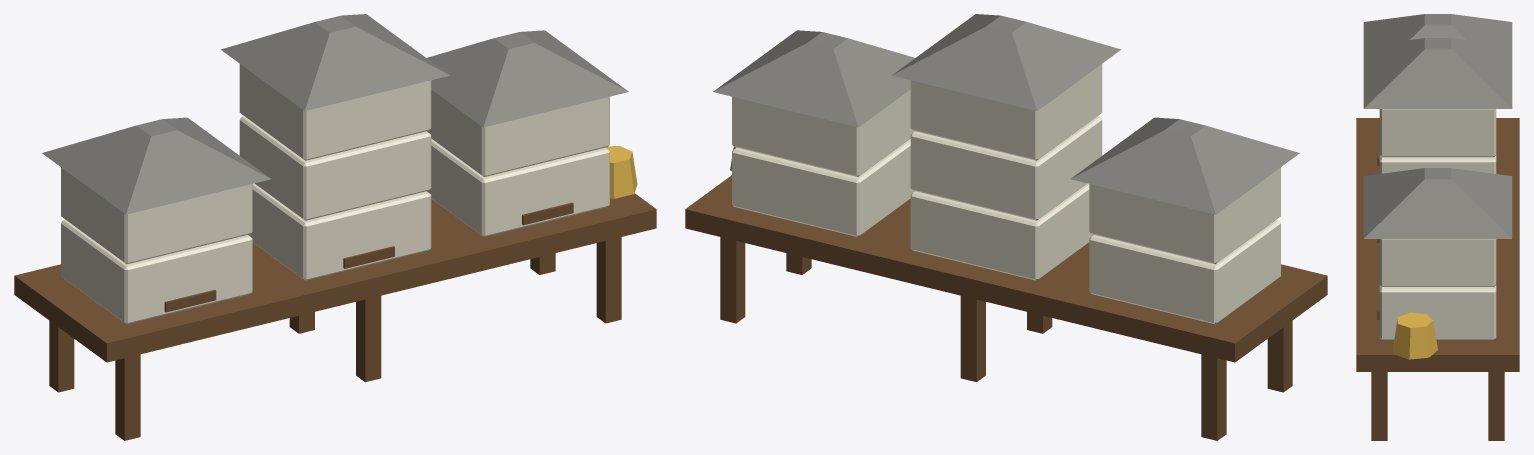
Rendered from beehives.glb.
3 renders of one model, left to right at view 1: azimuth 30°, elevation 25°; view 2: azimuth 150°, elevation 25°; view 3: azimuth 270°, elevation 25°, orthographic. The views are drawn at different scales.
Visible parts, largest first — view 1: beehives; view 2: beehives; view 3: beehives.
Part boxes in pixels (<box>): beehives: <box>14,14,656,440</box>; beehives: <box>685,14,1327,440</box>; beehives: <box>1356,14,1519,440</box>.
Size of the model in its own units: 2.45 by 1.37 by 0.7.
